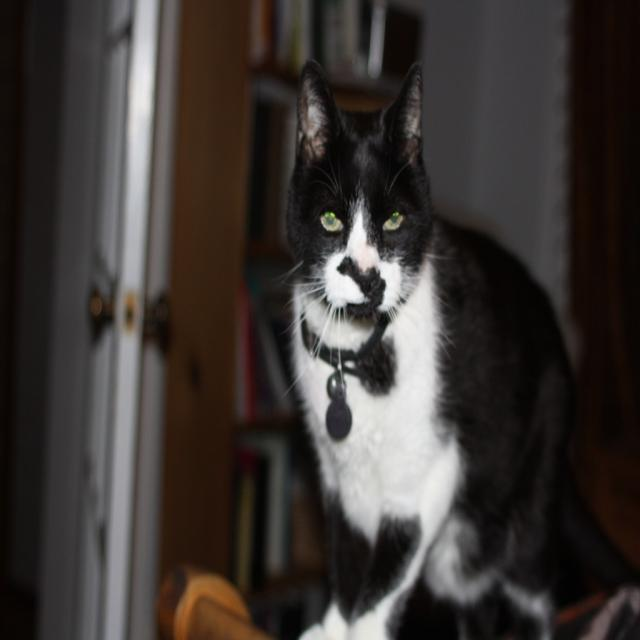Cat: (274, 55, 573, 638)
